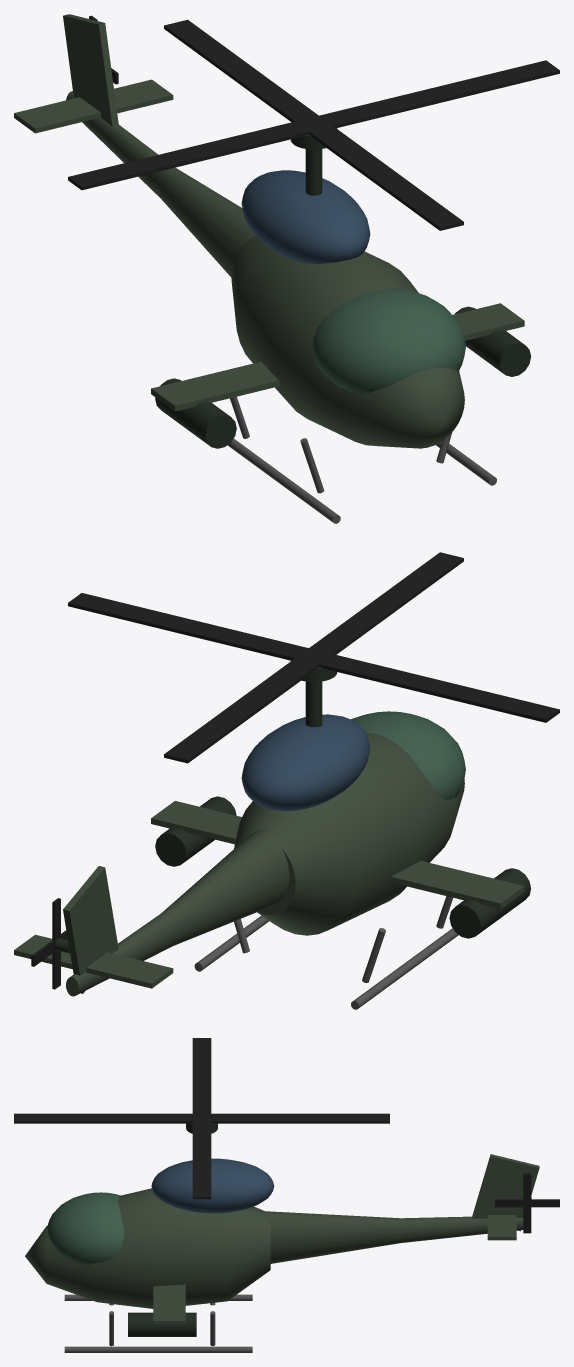
The model's file is enemy_helicopter.glb.
The picture shows the model from 3 angles, top to bottom: view 1: azimuth 30°, elevation 25°; view 2: azimuth 150°, elevation 25°; view 3: azimuth 270°, elevation 25°; orthographic projection. The views are drawn at different scales.
Parts seen in each view (by area): view 1: enemy_helicopter; view 2: enemy_helicopter; view 3: enemy_helicopter.
Boxes of the visible parts, left/top/right/bottom form: enemy_helicopter: left=14, top=14, right=559, bottom=523; enemy_helicopter: left=14, top=552, right=559, bottom=1009; enemy_helicopter: left=14, top=1038, right=559, bottom=1352.
Size of the model in its own units: 5.2 by 3.19 by 7.55.
